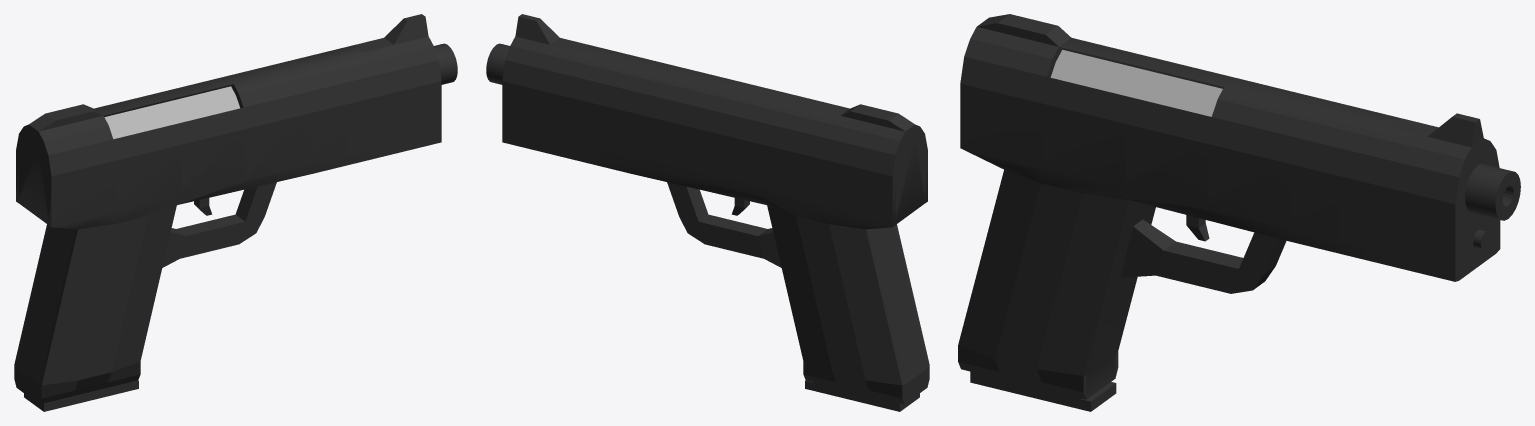
File: pistol.fbx
3 renders of one model, left to right at view 1: azimuth 30°, elevation 25°; view 2: azimuth 150°, elevation 25°; view 3: azimuth 330°, elevation 25°, orthographic. The views are drawn at different scales.
Visible parts, largest first — view 1: polySurface5; view 2: polySurface5; view 3: polySurface5.
Boxes of the visible parts, bbox=[...] form: polySurface5: bbox=[14, 14, 457, 411]; polySurface5: bbox=[486, 14, 929, 411]; polySurface5: bbox=[958, 14, 1520, 411].
Bounding box in the file's own units: 4.94 × 3.31 × 0.7231.
Materials: 2 (1 with a texture image).
